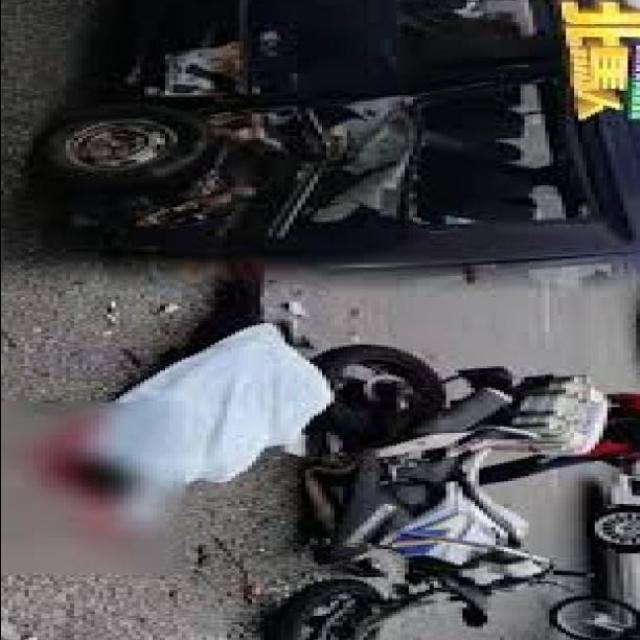accident: (82, 0, 566, 272), (276, 372, 632, 640)
